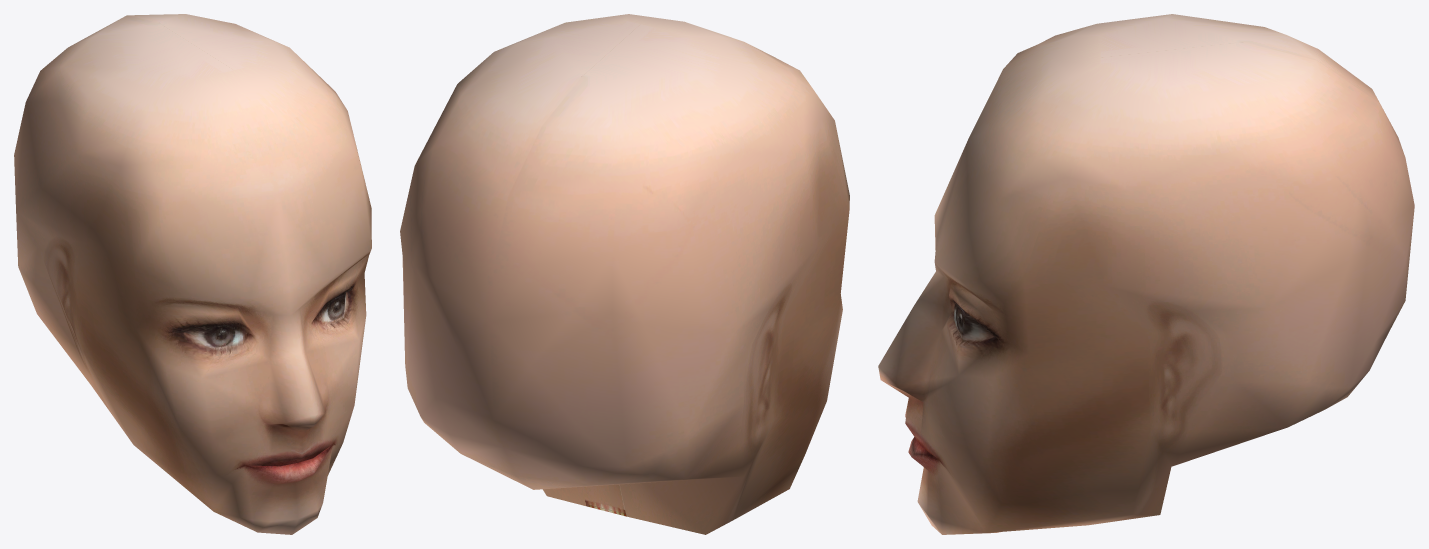
The model's file is b_n_breton_f_head_06.glb.
3 renders of one model, left to right at view 1: azimuth 30°, elevation 25°; view 2: azimuth 150°, elevation 25°; view 3: azimuth 270°, elevation 25°, orthographic. The views are drawn at different scales.
Visible parts, largest first — view 1: Tri B_N_Breton_F_Head_06; view 2: Tri B_N_Breton_F_Head_06; view 3: Tri B_N_Breton_F_Head_06.
Boxes of the visible parts, x1,y1,x2,y2 form: Tri B_N_Breton_F_Head_06: (14,14,371,534); Tri B_N_Breton_F_Head_06: (400,14,849,534); Tri B_N_Breton_F_Head_06: (878,14,1414,534).
Bounding box in the file's own units: 0.1001 × 0.1524 × 0.1519.
1 material, 1 textured.
